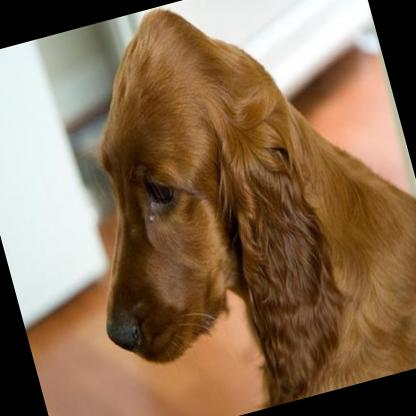Irish_setter: (27, 0, 416, 416)
